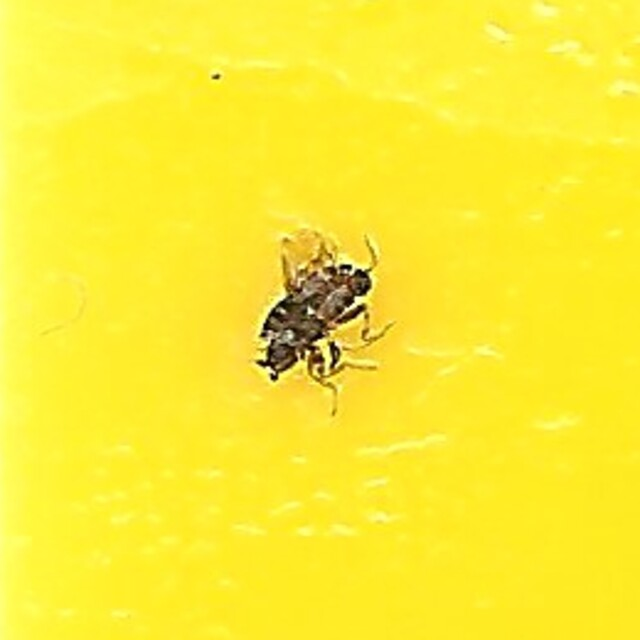Brachycera: (246, 226, 394, 414)
